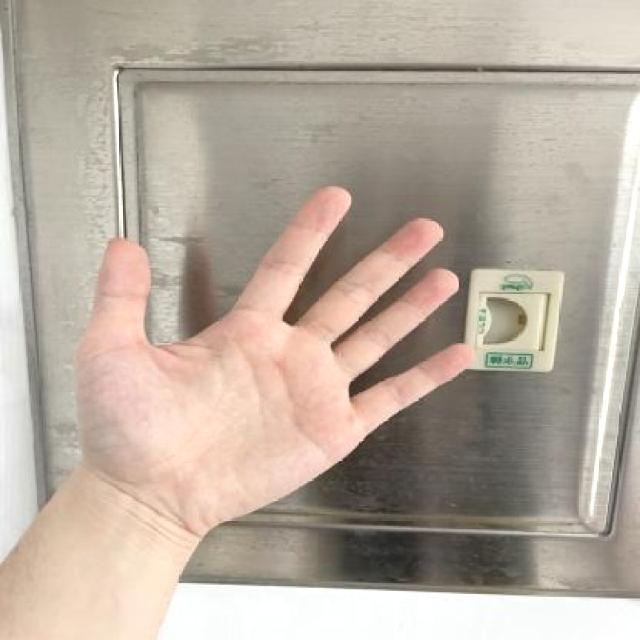no_glove: (47, 162, 521, 544)
